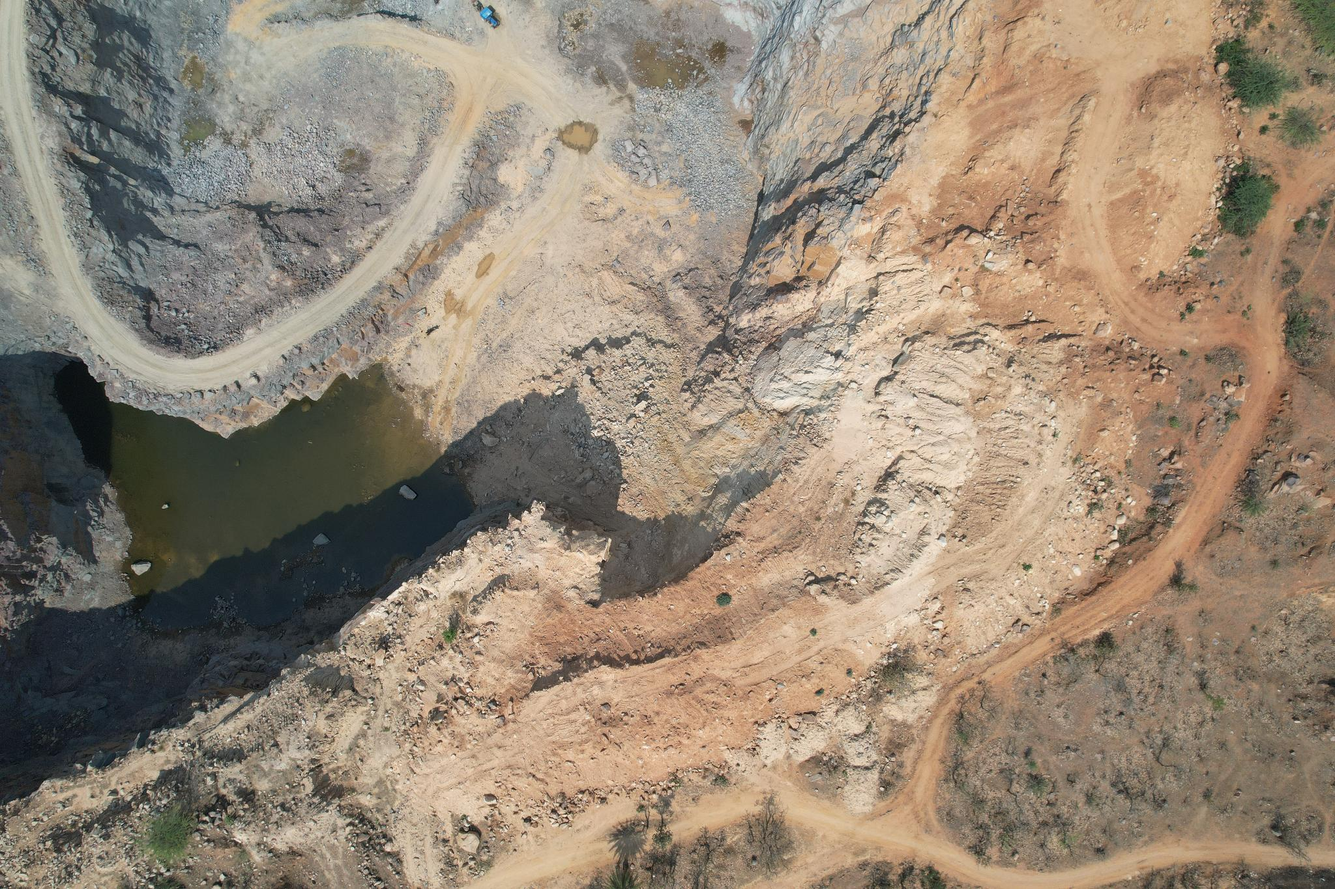benches: (0, 0, 563, 393)
